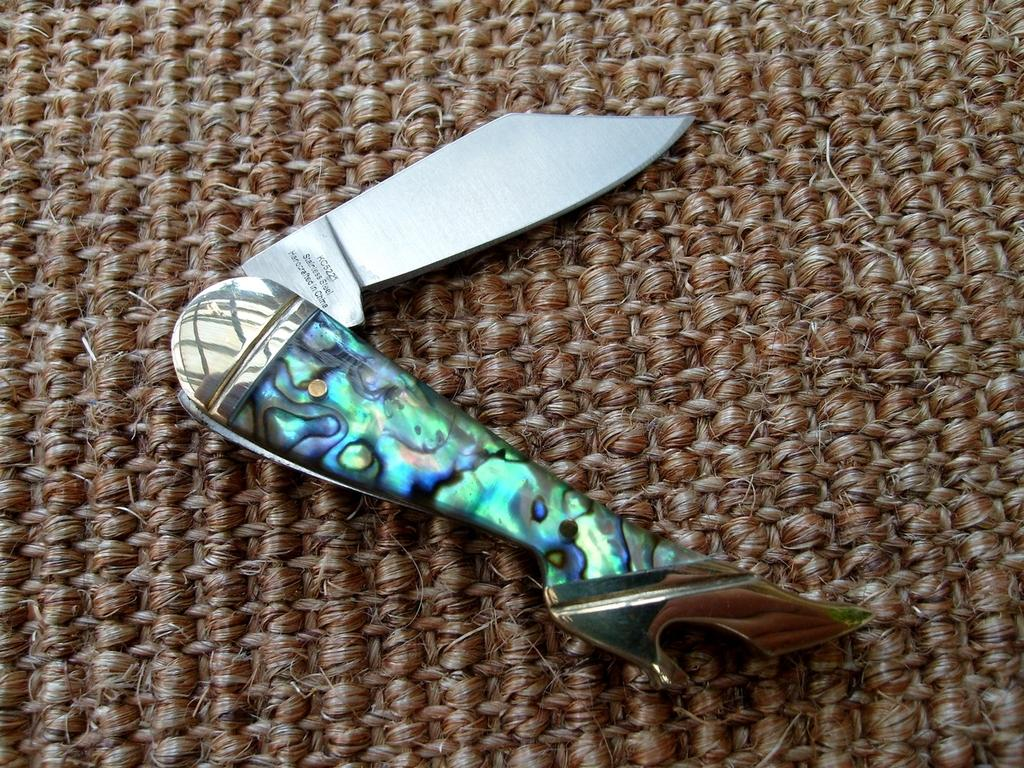Knife: (173, 106, 877, 693)
